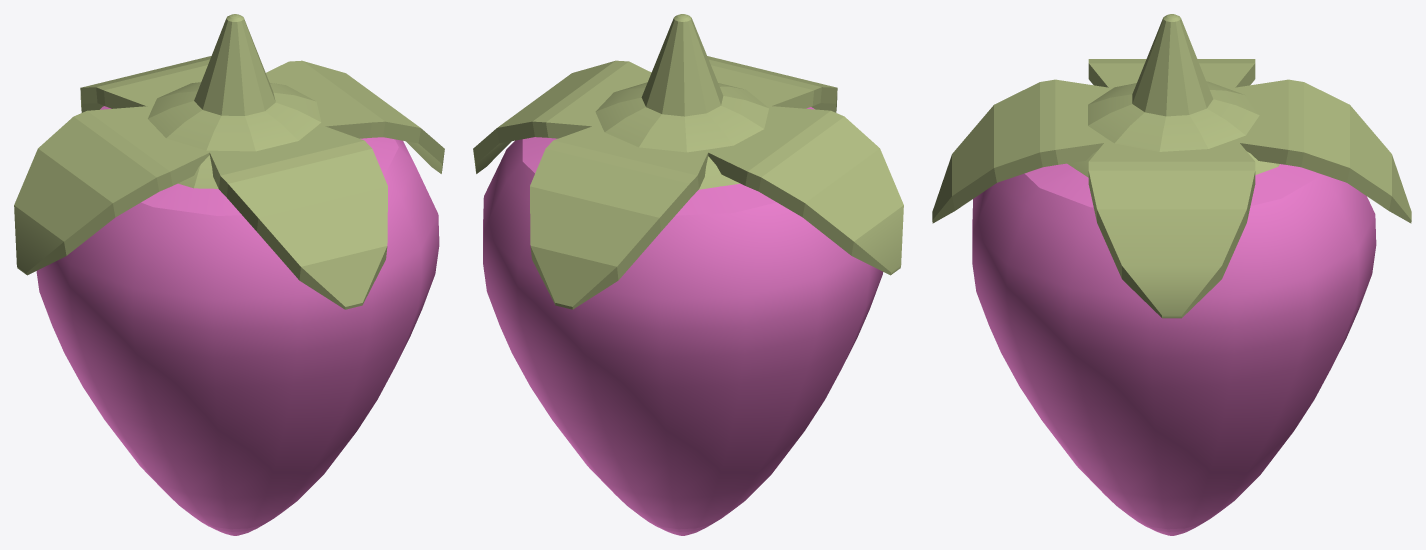
The model's file is Strawberry (1).fbx.
The picture shows the model from 3 angles, left to right: view 1: azimuth 30°, elevation 25°; view 2: azimuth 150°, elevation 25°; view 3: azimuth 270°, elevation 25°; orthographic projection.
Parts seen in each view (by area): view 1: Cylinder.001, Cube.009, Cylinder.002; view 2: Cylinder.001, Cube.009, Cylinder.002; view 3: Cylinder.001, Cube.009, Cylinder.002.
Part boxes in pixels (x1=…): Cylinder.001: x1=36, y1=106, x2=439, y2=535; Cube.009: x1=14, y1=56, x2=444, y2=309; Cylinder.002: x1=148, y1=14, x2=321, y2=188; Cylinder.001: x1=483, y1=107, x2=883, y2=535; Cube.009: x1=473, y1=56, x2=903, y2=309; Cylinder.002: x1=595, y1=14, x2=768, y2=189; Cylinder.001: x1=972, y1=163, x2=1376, y2=535; Cube.009: x1=932, y1=59, x2=1411, y2=318; Cylinder.002: x1=1067, y1=14, x2=1279, y2=177.
Bounding box in the file's own units: 290 × 346 × 290.
